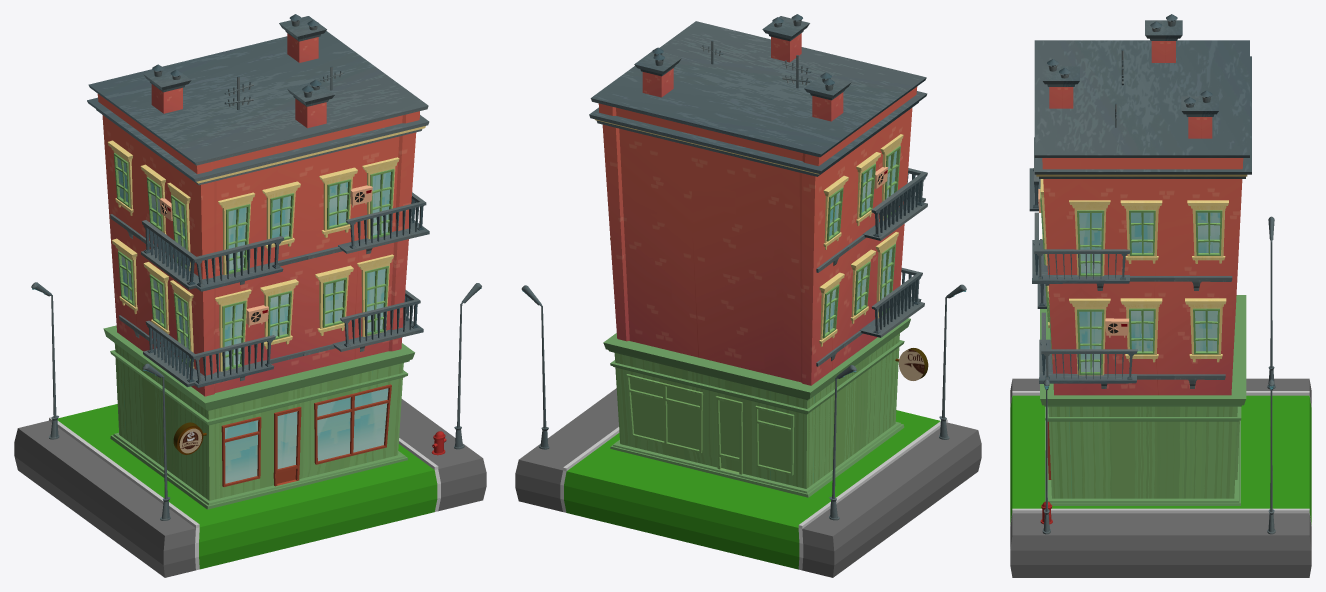
The picture shows the model from 3 angles, left to right: view 1: azimuth 30°, elevation 25°; view 2: azimuth 150°, elevation 25°; view 3: azimuth 270°, elevation 25°; orthographic projection. The views are drawn at different scales.
Parts seen in each view (by area): view 1: object 14, Plane.001_76, object 13, toit_16, toit.001_17, object 20, object 22, object 23, object 6, object 25, object 21, object 24 (+28 smaller); view 2: object 14, Plane.001_76, object 13, toit_16, toit.001_17, object 43, object 46, Cube.002_29, Cube.001_30, Cube_20, object 57, object 56 (+11 smaller); view 3: Plane.001_76, object 14, object 13, toit_16, object 38, object 37, object 40, object 32, object 39, object 41, toit.001_17, Cube_20 (+13 smaller).
Boxes of the visible parts, x1=… form: object 14: x1=97, y1=94, x2=419, y2=396; Plane.001_76: x1=14, y1=399, x2=486, y2=577; object 13: x1=103, y1=325, x2=414, y2=509; toit_16: x1=88, y1=31, x2=428, y2=165; toit.001_17: x1=87, y1=97, x2=429, y2=181; object 20: x1=218, y1=192, x2=255, y2=275; object 22: x1=215, y1=289, x2=251, y2=371; object 23: x1=357, y1=254, x2=393, y2=336; object 6: x1=319, y1=167, x2=357, y2=237; object 25: x1=315, y1=265, x2=353, y2=335; object 21: x1=362, y1=157, x2=399, y2=238; object 24: x1=262, y1=181, x2=300, y2=250; object 14: x1=598, y1=86, x2=917, y2=385; Plane.001_76: x1=515, y1=388, x2=981, y2=577; object 13: x1=603, y1=318, x2=910, y2=497; toit_16: x1=590, y1=21, x2=926, y2=157; toit.001_17: x1=589, y1=91, x2=927, y2=173; object 43: x1=871, y1=173, x2=926, y2=237; object 46: x1=871, y1=273, x2=922, y2=333; Cube.002_29: x1=634, y1=51, x2=681, y2=97; Cube.001_30: x1=804, y1=76, x2=851, y2=121; Cube_20: x1=762, y1=16, x2=809, y2=62; object 57: x1=819, y1=272, x2=844, y2=346; object 56: x1=850, y1=249, x2=875, y2=323; Plane.001_76: x1=1010, y1=378, x2=1311, y2=577; object 14: x1=1042, y1=158, x2=1243, y2=395; object 13: x1=1040, y1=295, x2=1246, y2=505; toit_16: x1=1034, y1=40, x2=1249, y2=157; object 38: x1=1069, y1=298, x2=1110, y2=375; object 37: x1=1069, y1=200, x2=1110, y2=276; object 40: x1=1185, y1=298, x2=1226, y2=362; object 32: x1=1187, y1=200, x2=1228, y2=263; object 39: x1=1120, y1=200, x2=1162, y2=263; object 41: x1=1120, y1=298, x2=1162, y2=362; toit.001_17: x1=1034, y1=56, x2=1251, y2=174; Cube_20: x1=1042, y1=66, x2=1079, y2=108.
Size of the model in its own units: 4.49 by 5.54 by 3.42.
24 materials, 11 textured.
